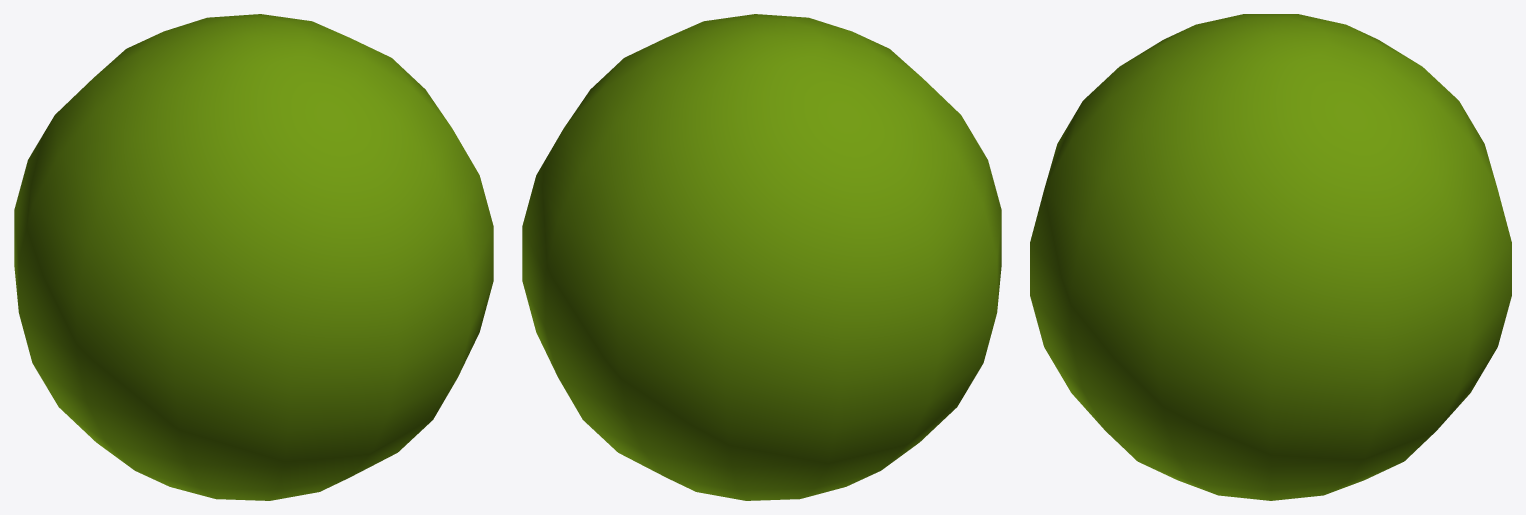
The model's file is Pea Pellet.fbx.
The picture shows the model from 3 angles, left to right: view 1: azimuth 30°, elevation 25°; view 2: azimuth 150°, elevation 25°; view 3: azimuth 270°, elevation 25°; orthographic projection.
Visible parts, largest first — view 1: polySurface1; view 2: polySurface1; view 3: polySurface1.
Boxes of the visible parts, x1,y1,x2,y2 form: polySurface1: (14,14,493,500); polySurface1: (522,14,1001,500); polySurface1: (1030,14,1511,500).
Bounding box in the file's own units: 1.03 × 1.06 × 1.04.
